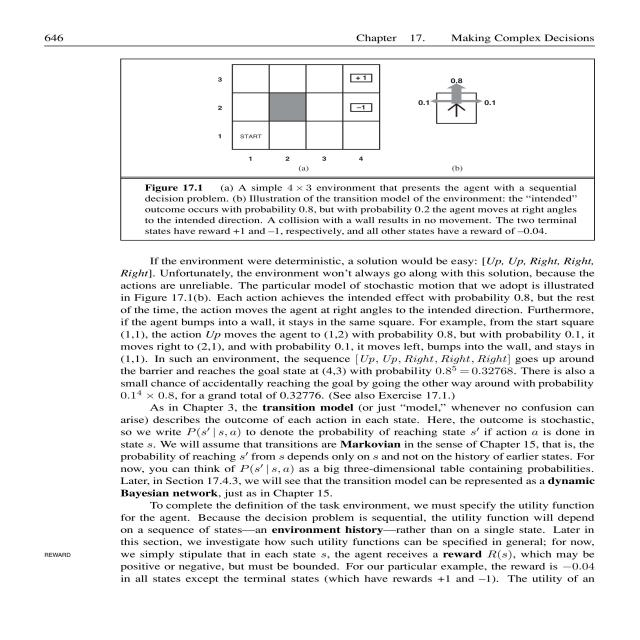diagram: (99, 54, 602, 239)
